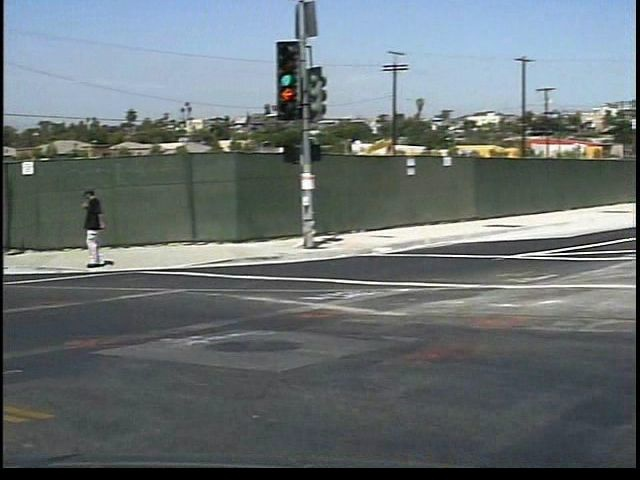person: (66, 184, 109, 280)
